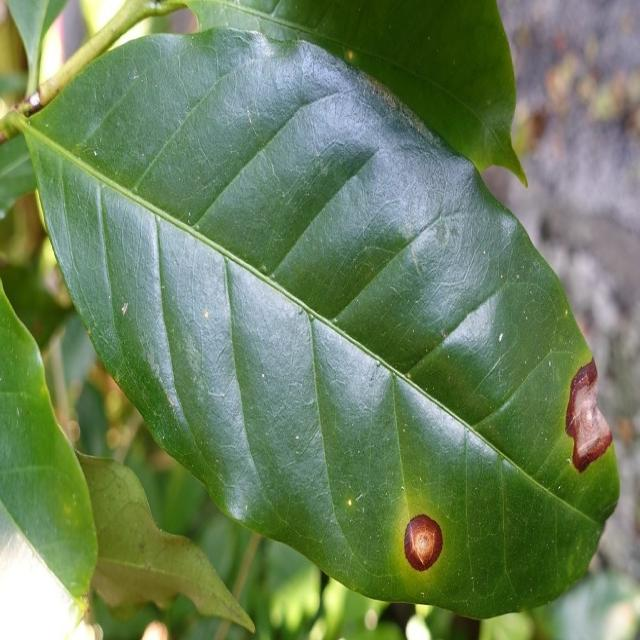Enfermedad-Mancha-de-hierro: (22, 27, 621, 622)
